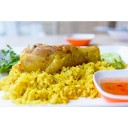briyani: (17, 45, 97, 102)
